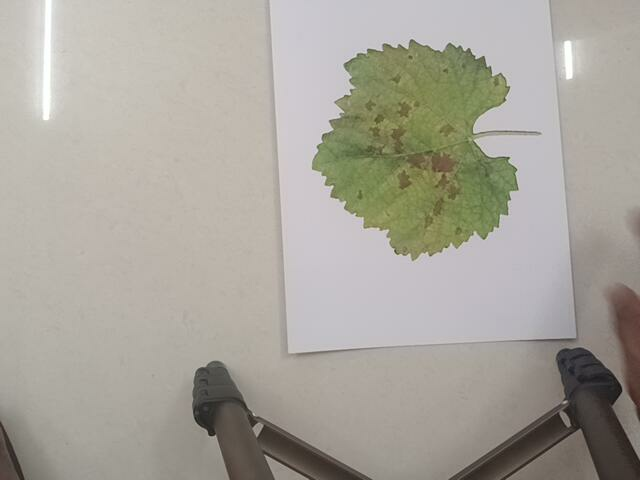Grape_Leaf_Vine_Disease: (313, 43, 548, 263)
